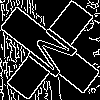M: (25, 25, 87, 86)
